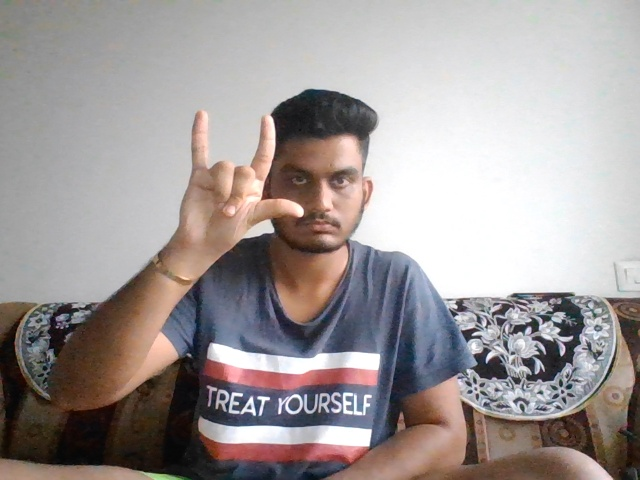I Love You: (157, 109, 304, 255)
